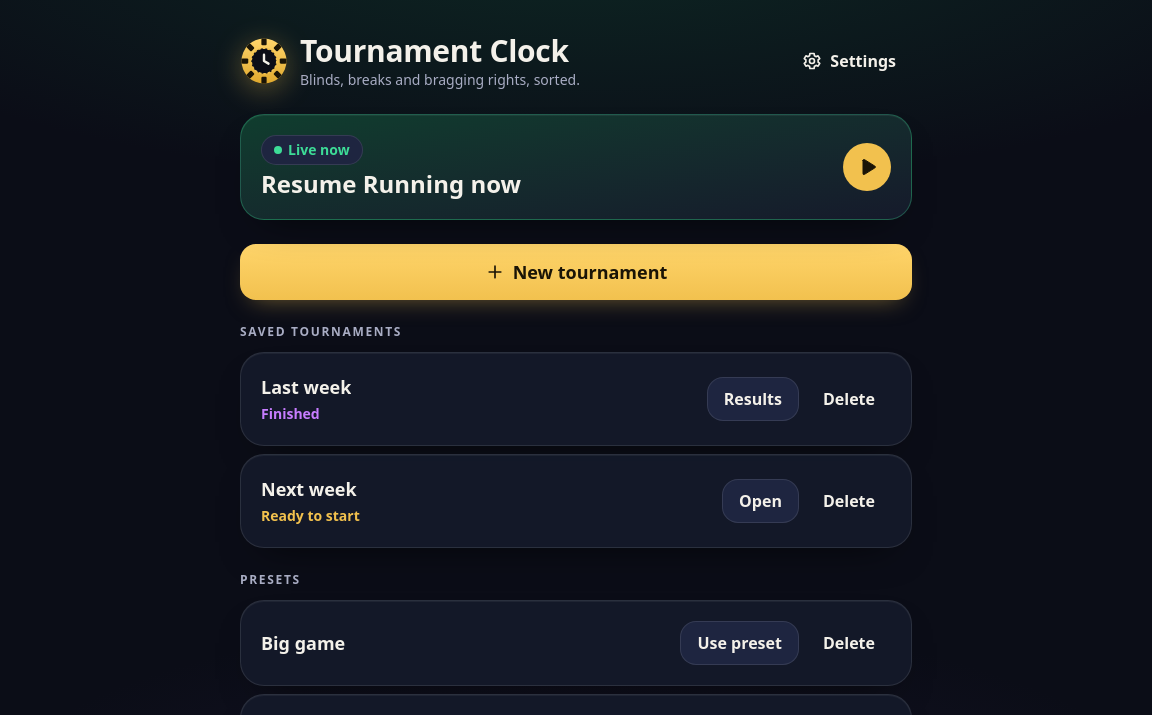
Test case: home library › starts a new tournament from a preset
The image size is (1152, 715).
Click the button with aria-label "Use preset: Big game": (740,642) [680, 620, 799, 664]
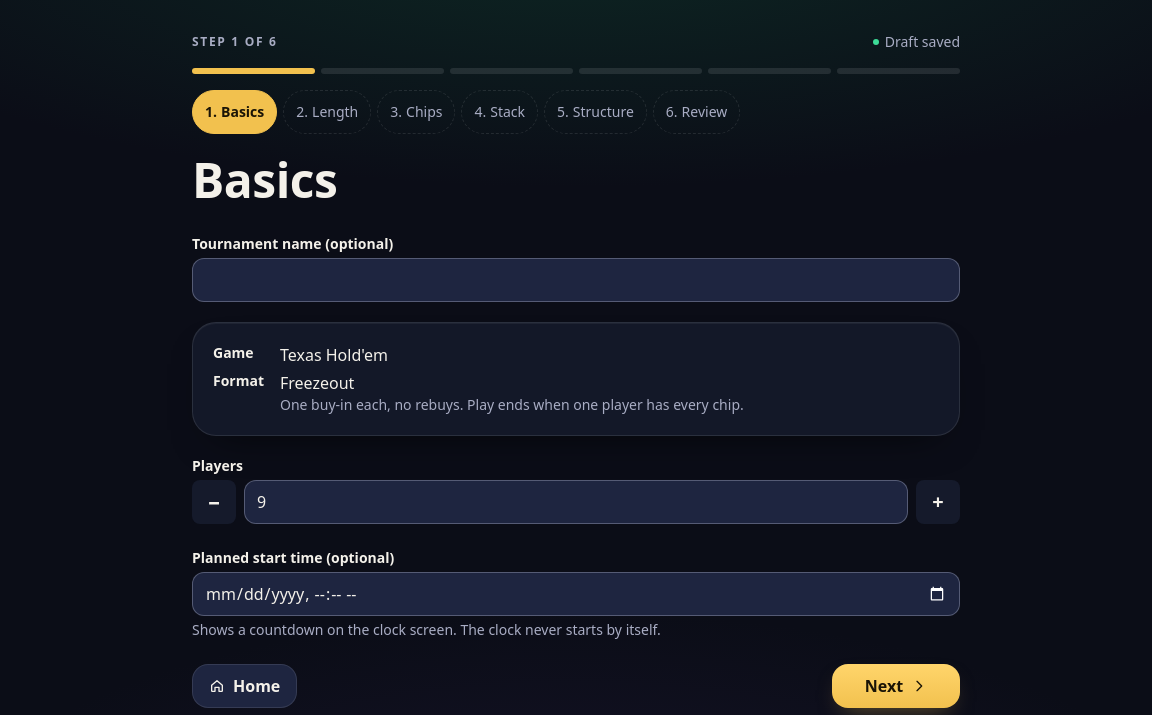
Now the heading "Basics" is shown, box [192, 147, 337, 212]
Now the field labelled "Players" holds "9", box [244, 480, 908, 524]
